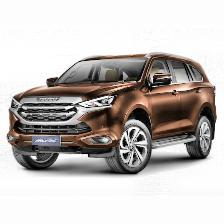NON-EV: (7, 48, 217, 175)
